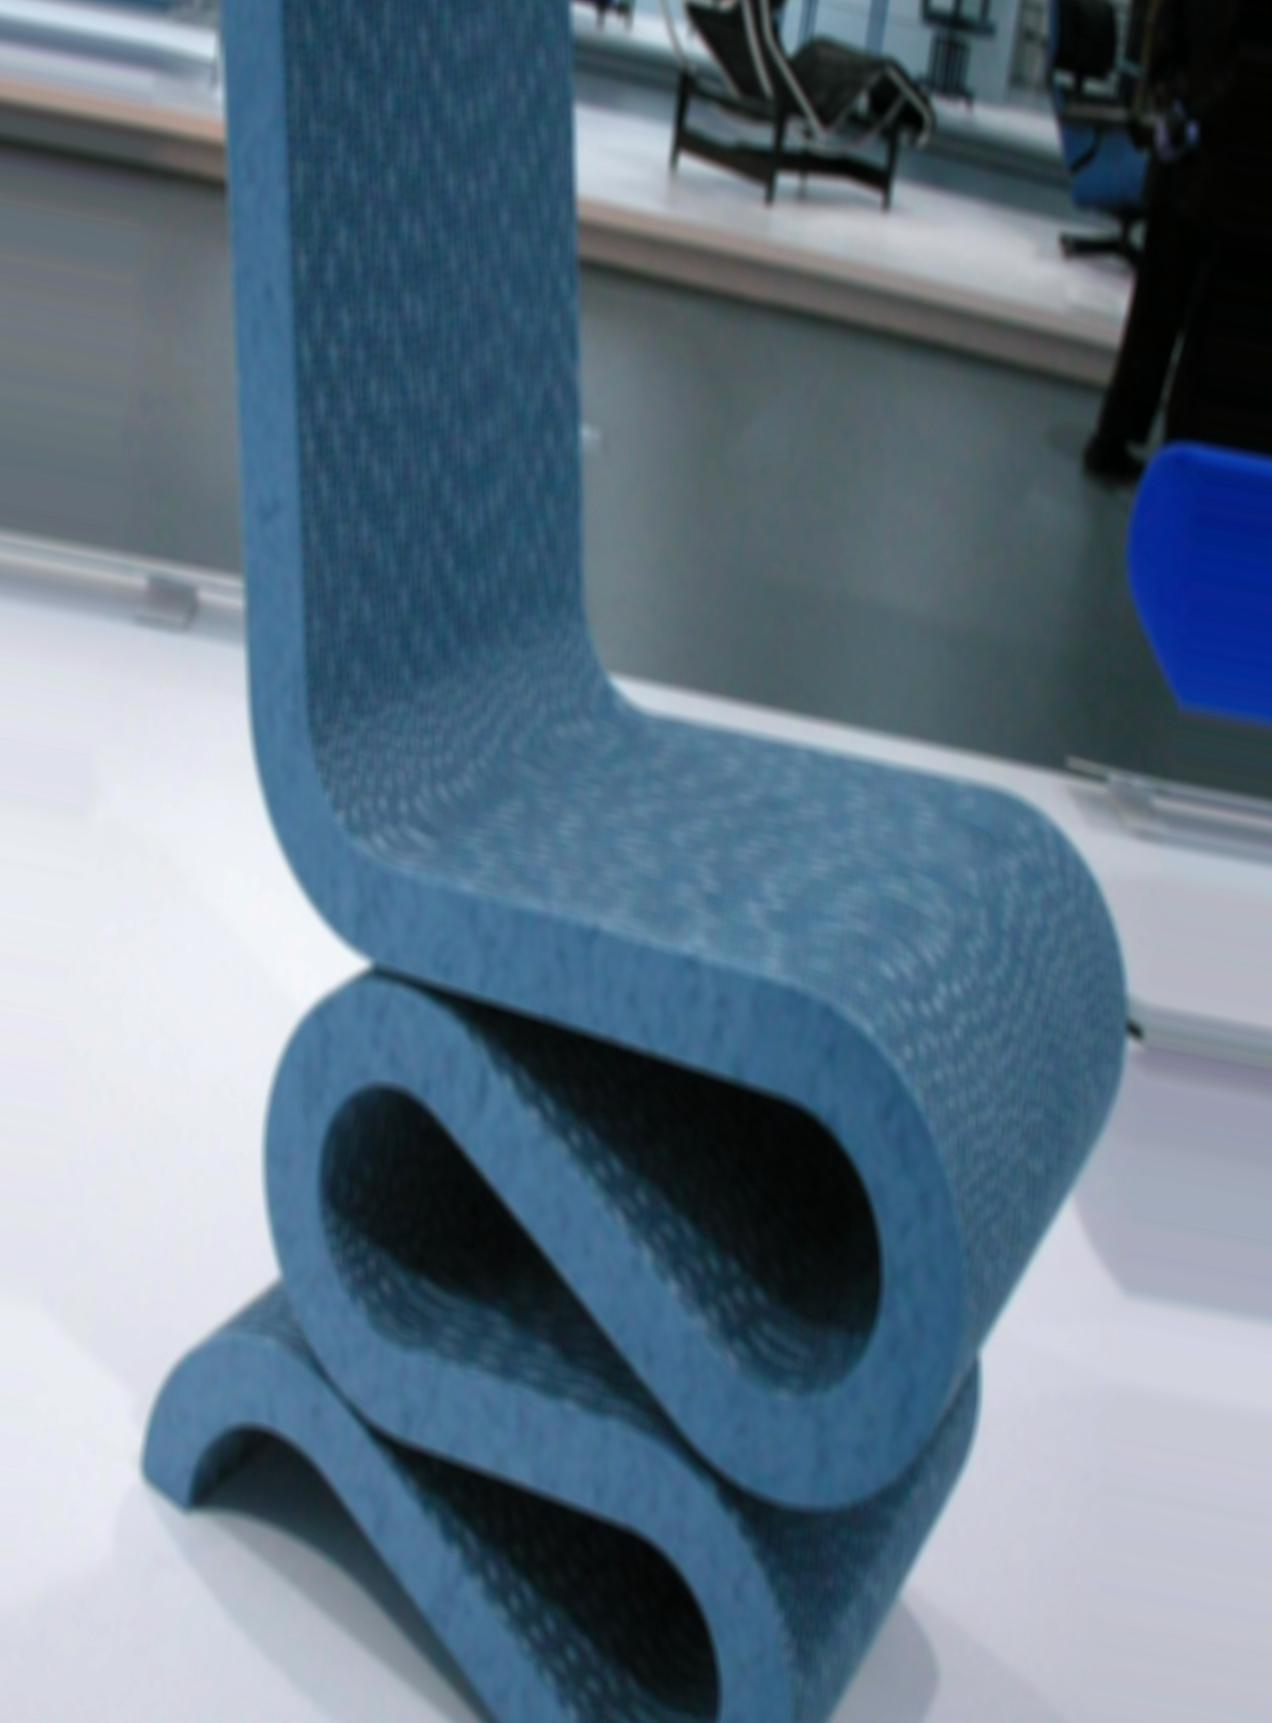chair: (132, 5, 1137, 1722)
